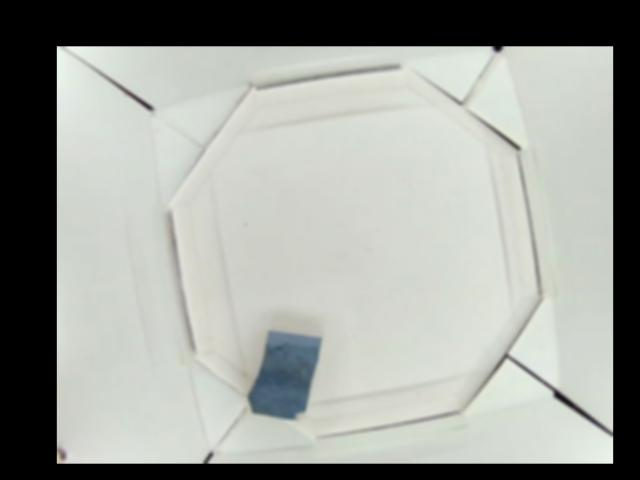China: (246, 328, 323, 418)
